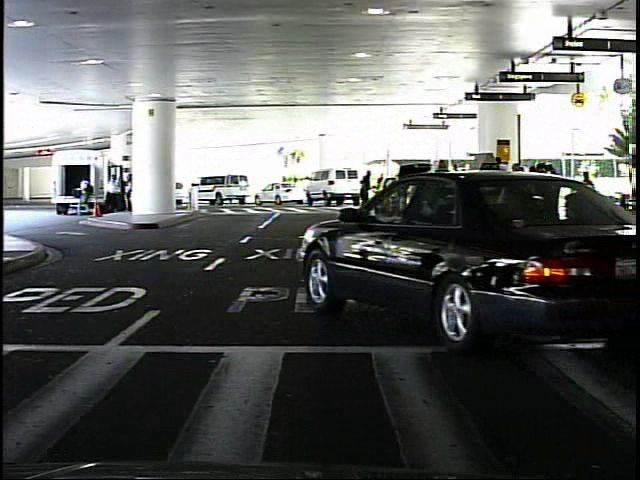person: (579, 165, 598, 222), (357, 165, 379, 208)
